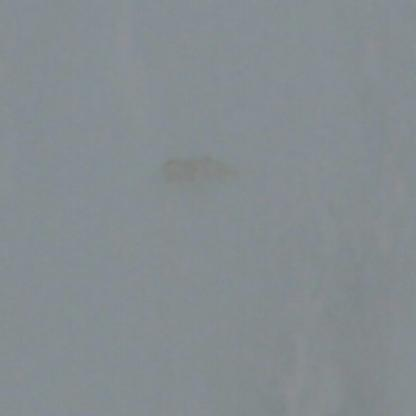polar-bear: (164, 158, 247, 182)
